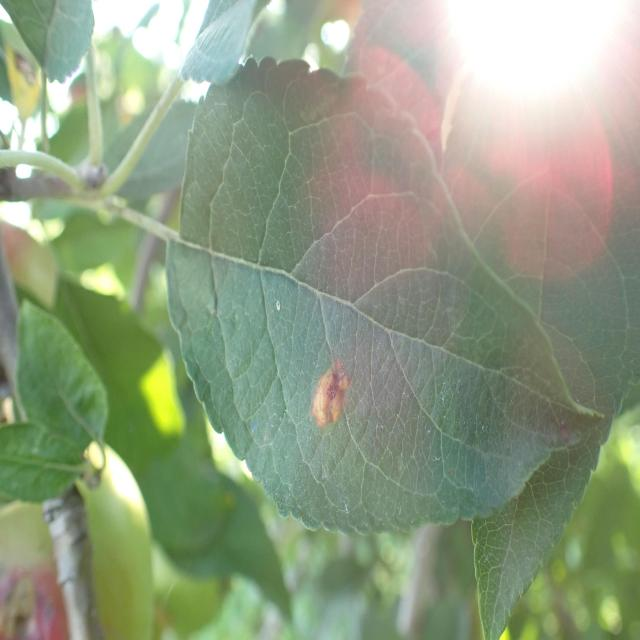Rust: (303, 346, 351, 447)
